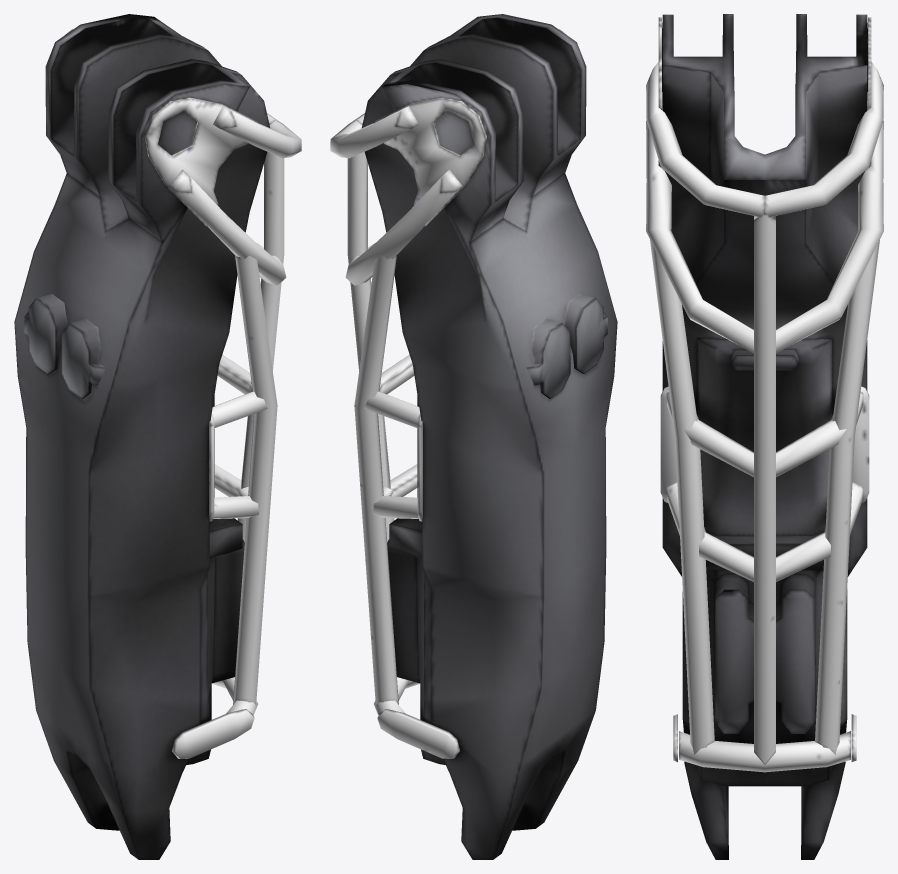
Rendered from l_lleg.obj.
3 views of the same model, side by side, from view 1: azimuth 30°, elevation 25°; view 2: azimuth 150°, elevation 25°; view 3: azimuth 270°, elevation 25° (orthographic). The views are drawn at different scales.
Visible parts, largest first — view 1: <dummy_root>; view 2: <dummy_root>; view 3: <dummy_root>.
Part boxes in pixels (<box>): <dummy_root>: <box>14,14,301,859</box>; <dummy_root>: <box>330,14,617,859</box>; <dummy_root>: <box>646,14,883,859</box>.
Bounding box in the file's own units: 0.1367 × 0.4522 × 0.116.
Materials: 1 (1 with a texture image).
